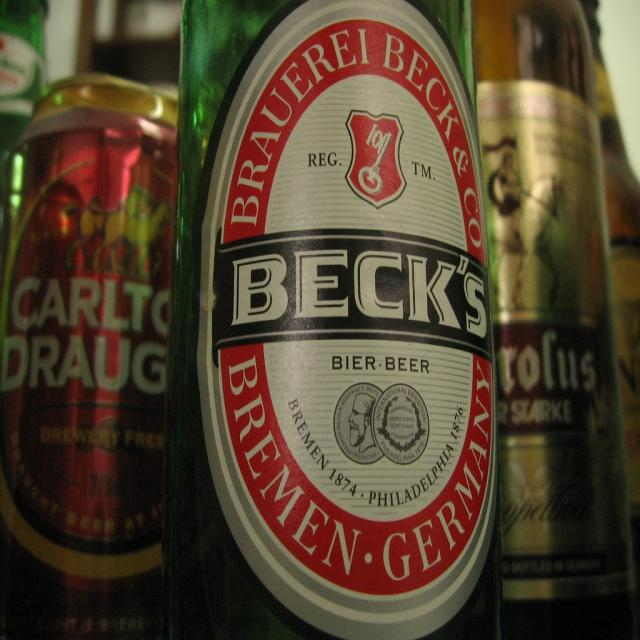becks: (196, 2, 499, 640)
